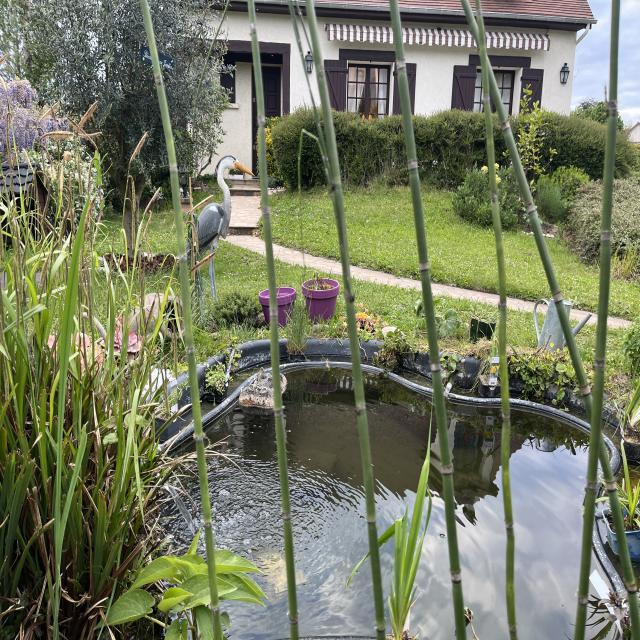Heron: (186, 148, 261, 326)
